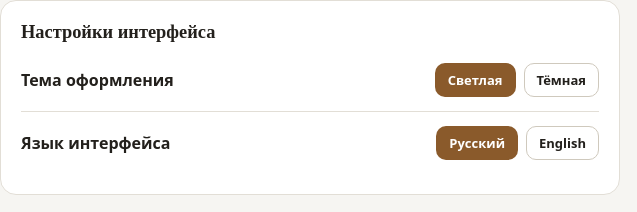
Test case: interface language › switches the language from the settings page
The image size is (637, 212).
expect the heading "Настройки интерфейса" is shown: met, box [21, 22, 215, 42]
Click the button "English" at (562,143), box [526, 126, 599, 160]
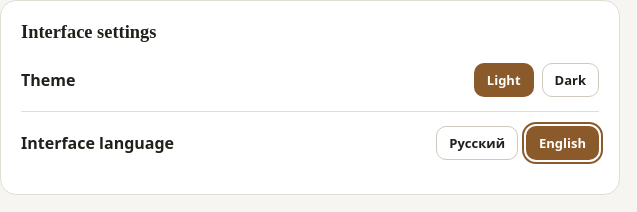
expect the heading "Interface settings" is shown: met, box [21, 22, 156, 42]
